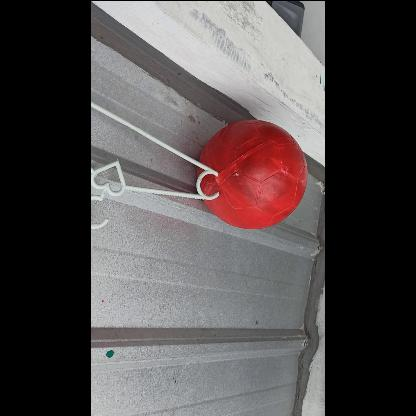red_ball: (197, 120, 308, 230)
